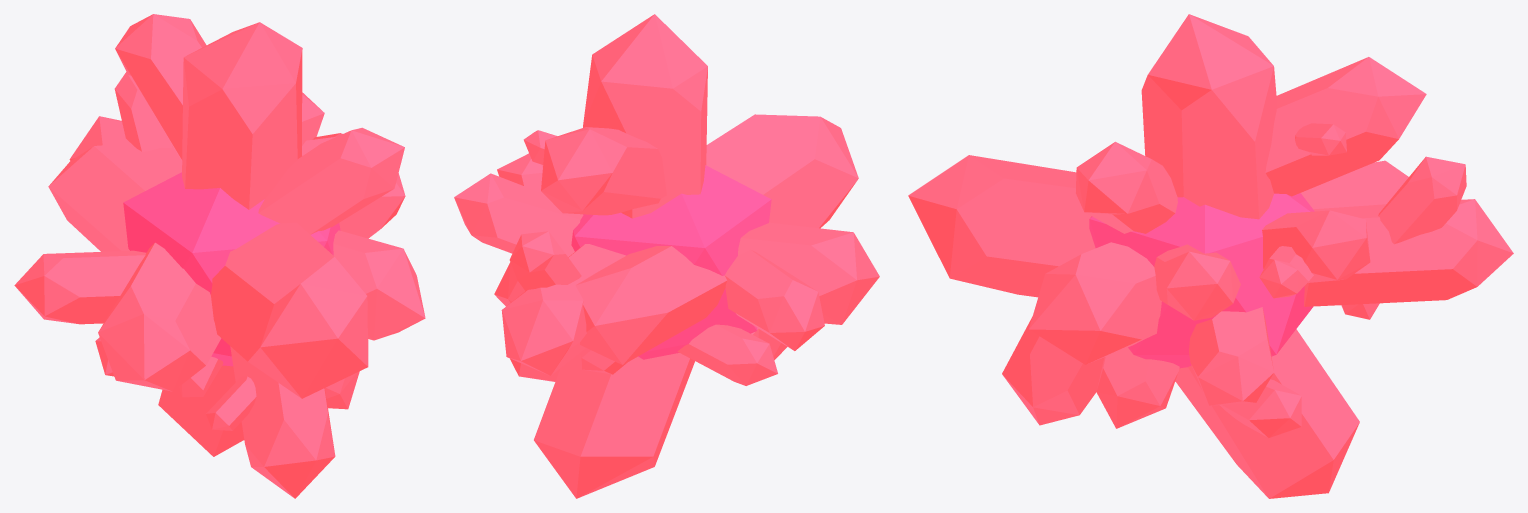
Rendered from AttackCrystalDeposit.fbx.
3 renders of one model, left to right at view 1: azimuth 30°, elevation 25°; view 2: azimuth 150°, elevation 25°; view 3: azimuth 270°, elevation 25°, orthographic. The views are drawn at different scales.
Visible parts, largest first — view 1: Center.001; view 2: Center.001; view 3: Center.001.
Part boxes in pixels (box(x1,y1,x2,y2)): Center.001: box(14, 14, 425, 498); Center.001: box(454, 14, 879, 498); Center.001: box(908, 14, 1513, 498).
Size of the model in its own units: 563 by 701 by 814.
